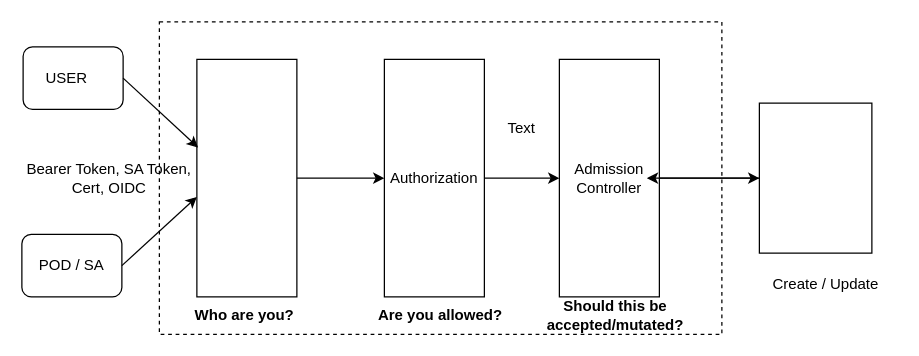
Some shapes in this 919 by 356 pixel diagram are drawn without their labels. The shapes that lost their labels are listed below. From the top down, each one's centre as x and y in pixels, then its label:
At point (246, 177): "Authentication".
At point (815, 177): "ETCD".
